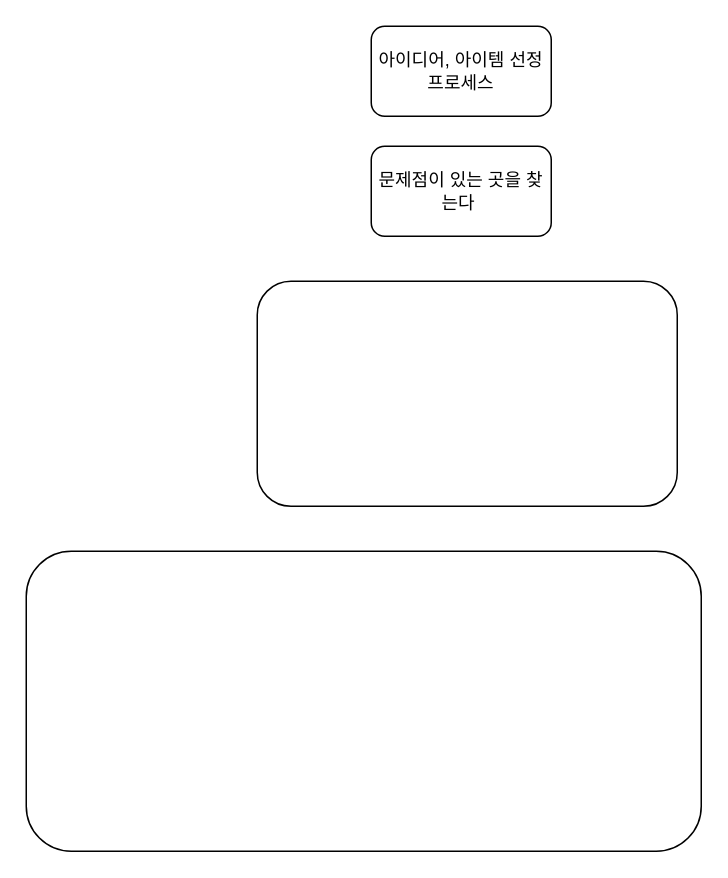
The diagram is 728 pixels wide and 878 high, and some of its shapes have lost their labels. Each missing label, with the centre of its shape:
그 문제를 현제, 과거에 유행했던 게임이나, 소셜서비스의 문제해결방식과 하나씩 융합해서 생각해본다.: the point at 466,393
페이스북, 인스타, 학교대항전, 수박게임, 파티애니멀즈, 탕후루: the point at 363,700
